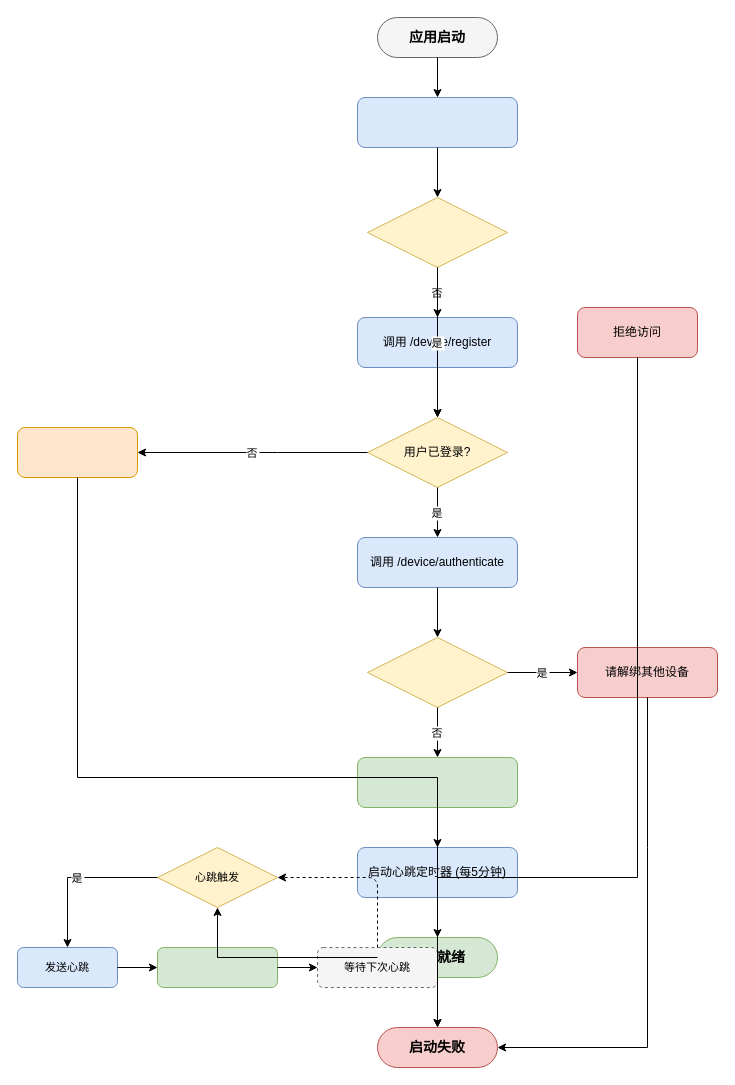
Image size: 735x1085. Some labels were removed from this diagram. The shapes that lost their labels are listed below. From the top down, each one's centre as x and y in pixels, then its label:
the point at 437,122: 加载/生成设备ID
the point at 437,232: 设备已注册?
the point at 77,452: 请先登录
the point at 437,672: 设备数量超限?
the point at 437,782: 注册/认证成功
the point at 217,967: 更新活跃时间
